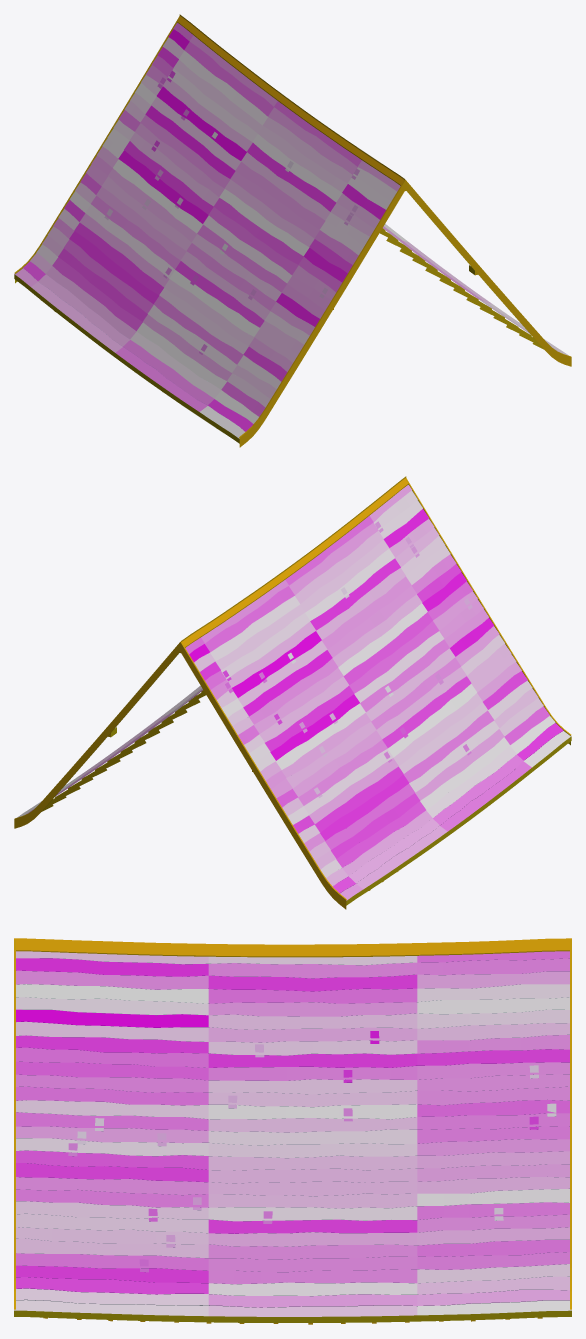
File: roof_s_8x10.glb
3 views of the same model, one above another, from view 1: azimuth 30°, elevation 25°; view 2: azimuth 150°, elevation 25°; view 3: azimuth 270°, elevation 25° (orthographic). The views are drawn at different scales.
Parts seen in each view (by area): view 1: roof_s_8x10; view 2: roof_s_8x10; view 3: roof_s_8x10.
Boxes of the visible parts, x1,y1,x2,y2 form: roof_s_8x10: (14, 14, 571, 447); roof_s_8x10: (14, 476, 571, 909); roof_s_8x10: (14, 938, 571, 1324).
Size of the model in its own units: 9.12 by 6.06 by 10.7.
